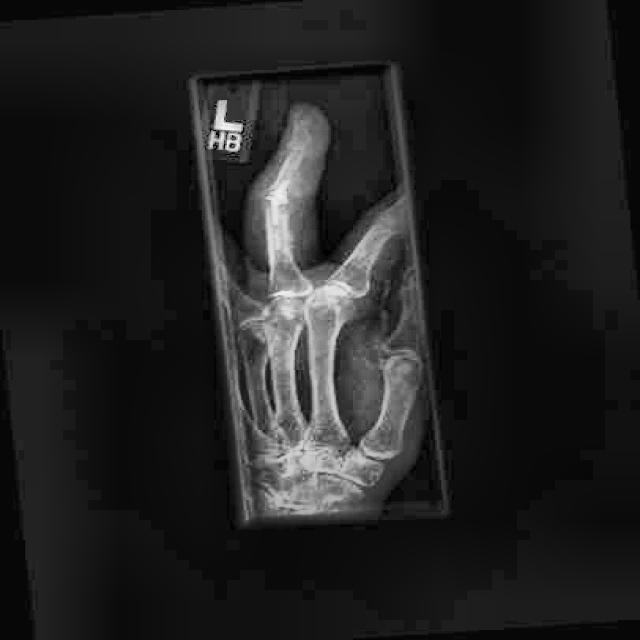fingers positive: (253, 173, 308, 217), (281, 128, 315, 155)
